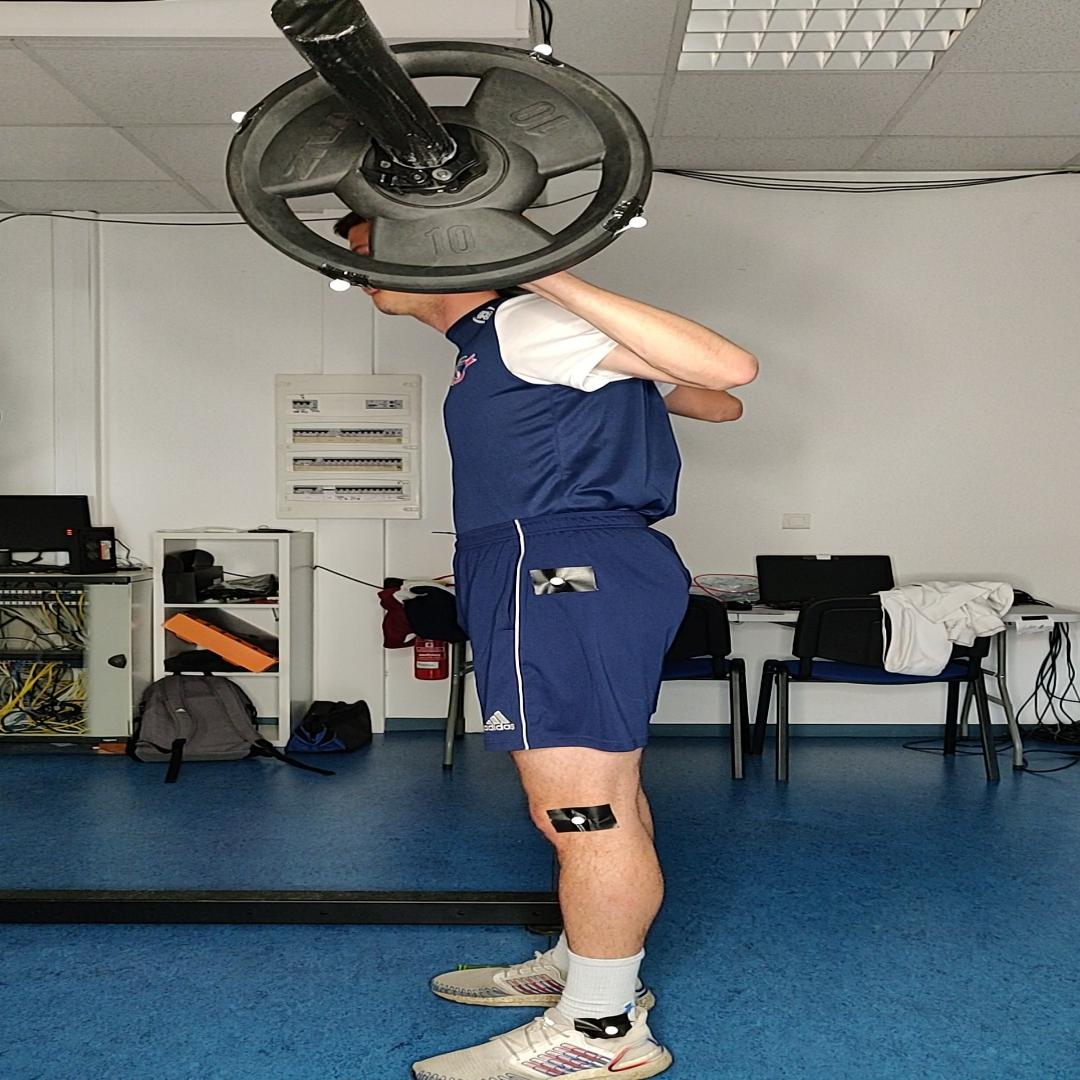Bar: (272, 0, 368, 41)
Barbell: (225, 40, 654, 295)
